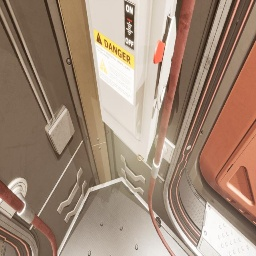SafetySwitchPanel ,: (85, 0, 177, 163)
